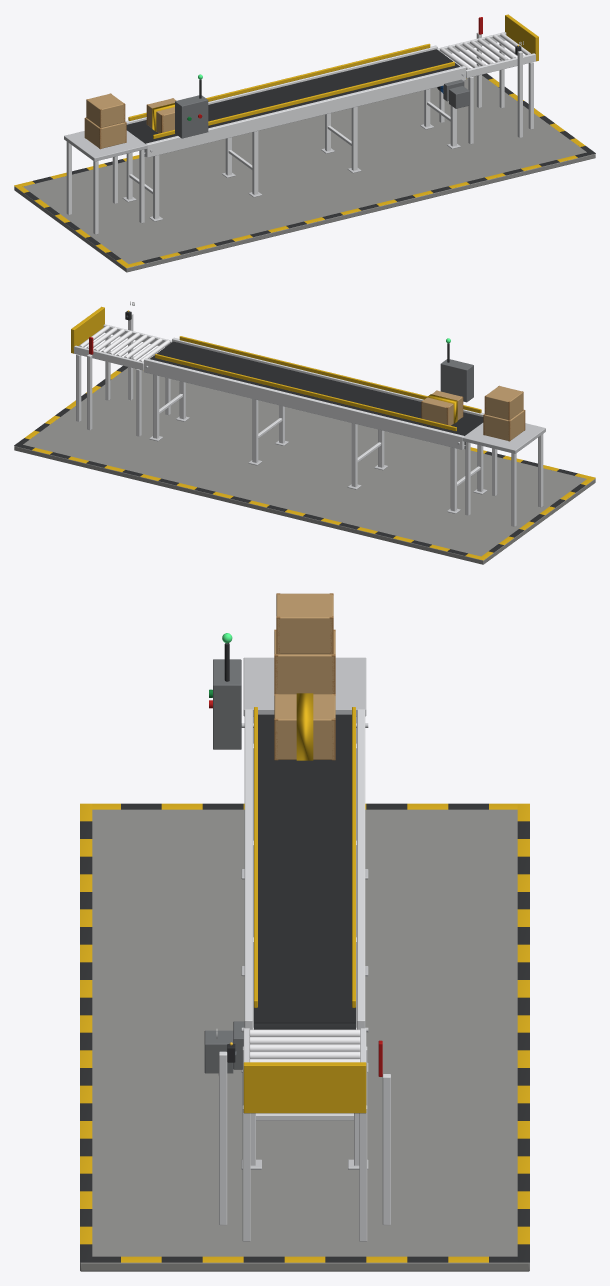
File: machine_belt.glb
3 views of the same model, one above another, from view 1: azimuth 30°, elevation 25°; view 2: azimuth 150°, elevation 25°; view 3: azimuth 270°, elevation 25° (orthographic). The views are drawn at different scales.
Visible parts, largest first — view 1: frame, proto_box_mesh; view 2: frame, proto_box_mesh; view 3: frame, proto_box_mesh.
Boxes of the visible parts, x1,y1,x2,y2 form: frame: (14,14,595,272); proto_box_mesh: (146,98,176,133); frame: (14,301,595,564); proto_box_mesh: (421,390,463,425); frame: (80,593,529,1271); proto_box_mesh: (274,693,335,760).
Bounding box in the file's own units: 5.3 × 1.56 × 2.2.
